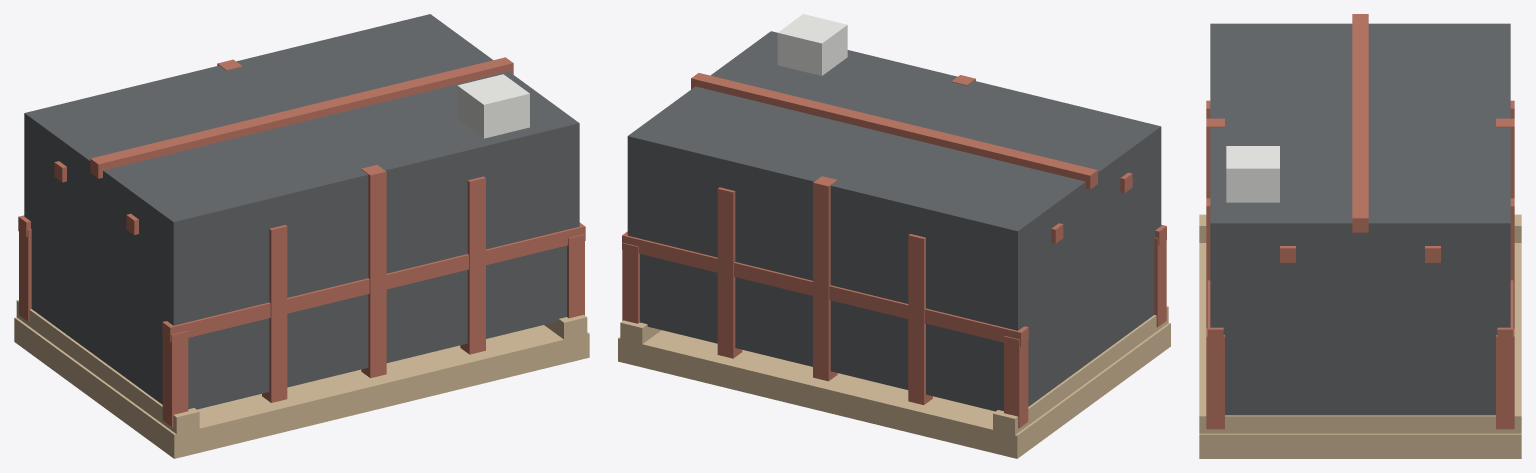
Rendered from fish-market-and-trawler-quay-fish-market-and-trawler-q-3fd82dbb__37309.glb.
The picture shows the model from 3 angles, left to right: view 1: azimuth 30°, elevation 25°; view 2: azimuth 150°, elevation 25°; view 3: azimuth 270°, elevation 25°; orthographic projection. The views are drawn at different scales.
Parts seen in each view (by area): view 1: fish-market-and-trawler-quay-single-creel; view 2: fish-market-and-trawler-quay-single-creel; view 3: fish-market-and-trawler-quay-single-creel.
Part boxes in pixels (box(x1,y1,x2,y2)): fish-market-and-trawler-quay-single-creel: box(14, 14, 589, 458); fish-market-and-trawler-quay-single-creel: box(618, 14, 1170, 458); fish-market-and-trawler-quay-single-creel: box(1199, 14, 1521, 458).
Bounding box in the file's own units: 0.9 × 0.55 × 0.6.
